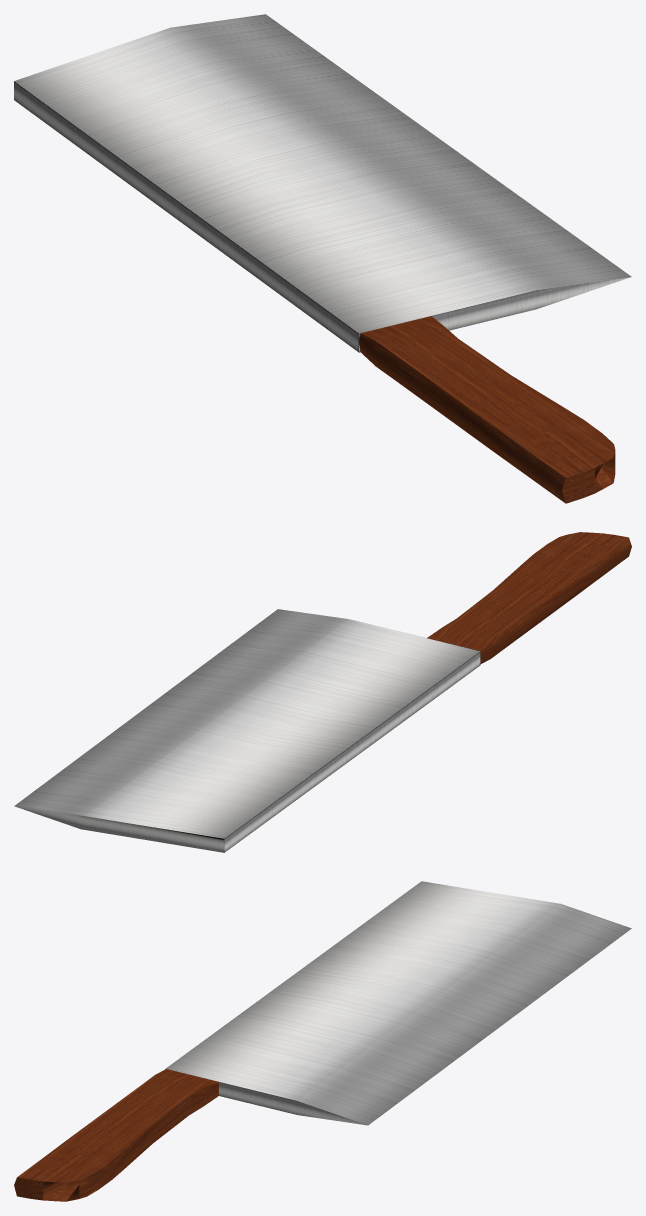
File: Knife.obj
The picture shows the model from 3 angles, top to bottom: view 1: azimuth 30°, elevation 25°; view 2: azimuth 150°, elevation 25°; view 3: azimuth 330°, elevation 25°; orthographic projection. The views are drawn at different scales.
Parts seen in each view (by area): view 1: pCube2; view 2: pCube2; view 3: pCube2.
Boxes of the visible parts, x1,y1,x2,y2 form: pCube2: [14, 14, 631, 503]; pCube2: [14, 532, 631, 852]; pCube2: [14, 881, 631, 1201].
Size of the model in its own units: 0.0114 by 0.00101 by 0.0404.
Materials: 1 (1 with a texture image).
